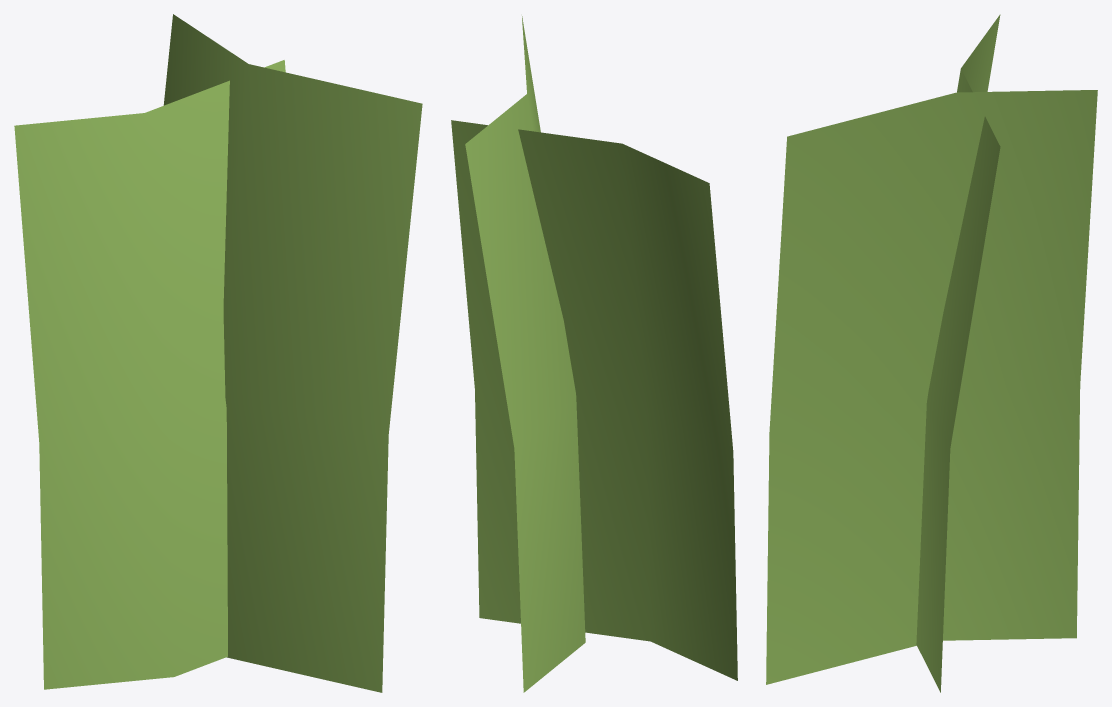
File: GrassPlanes_a_TwoS_01.fbx
3 views of the same model, side by side, from view 1: azimuth 30°, elevation 25°; view 2: azimuth 150°, elevation 25°; view 3: azimuth 270°, elevation 25° (orthographic). The views are drawn at different scales.
Parts seen in each view (by area): view 1: GrassPlanes_a_TwoS_01; view 2: GrassPlanes_a_TwoS_01; view 3: GrassPlanes_a_TwoS_01.
Boxes of the visible parts, left/top/right/bottom form: GrassPlanes_a_TwoS_01: left=14, top=14, right=422, bottom=692; GrassPlanes_a_TwoS_01: left=451, top=16, right=737, bottom=692; GrassPlanes_a_TwoS_01: left=766, top=14, right=1097, bottom=692.
Size of the model in its own units: 38.73 by 69.69 by 36.55.
